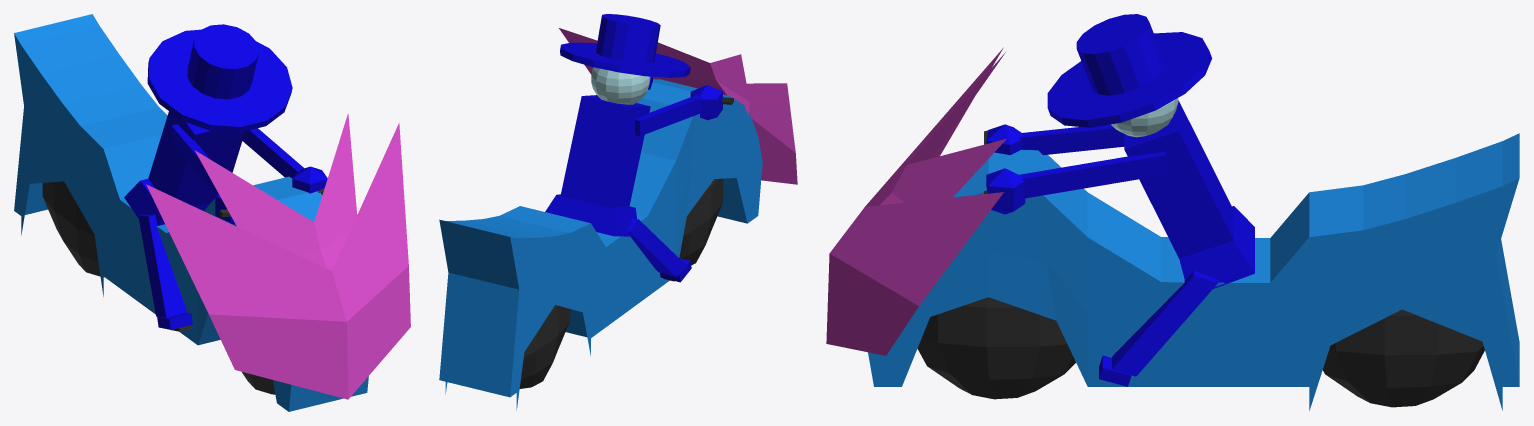
File: BikeMC.fbx
The picture shows the model from 3 angles, left to right: view 1: azimuth 30°, elevation 25°; view 2: azimuth 150°, elevation 25°; view 3: azimuth 270°, elevation 25°; orthographic projection. The views are drawn at different scales.
Parts seen in each view (by area): view 1: Plane.001, Cube, Cylinder.001, Plane, Cube.004, Cube.005, Cube.002, Sphere.001, Cube.003, Sphere; view 2: Cube, Cube.004, Cylinder.001, Plane.001, Plane, Sphere.001, Cube.005, Cube.003, Sphere, Cube.002, Sphere.002; view 3: Cube, Plane.001, Cylinder.001, Sphere, Sphere.001, Cube.004, Cube.005, Plane, Cube.002, Cube.003, Sphere.002.
Part boxes in pixels (x1,y1,x2,y2): Plane.001: [146, 123, 410, 399]; Cube: [14, 14, 368, 411]; Cylinder.001: [147, 24, 292, 132]; Plane: [194, 113, 357, 270]; Cube.004: [148, 111, 244, 206]; Cube.005: [171, 124, 327, 224]; Cube.002: [138, 214, 192, 329]; Sphere.001: [42, 181, 104, 277]; Cube.003: [124, 179, 210, 225]; Sphere: [242, 372, 275, 394]; Cube: [439, 79, 762, 410]; Cube.004: [560, 95, 650, 207]; Cylinder.001: [560, 14, 690, 77]; Plane.001: [559, 28, 797, 184]; Plane: [653, 42, 749, 115]; Sphere.001: [519, 305, 570, 388]; Cube.005: [635, 76, 722, 136]; Cube.003: [545, 194, 636, 236]; Sphere: [679, 178, 723, 265]; Cube.002: [627, 218, 691, 282]; Sphere.002: [591, 67, 650, 104]; Cube: [868, 133, 1519, 410]; Plane.001: [826, 47, 1003, 355]; Cylinder.001: [1047, 14, 1212, 127]; Sphere: [917, 297, 1075, 399]; Sphere.001: [1323, 309, 1484, 407]; Cube.004: [1124, 100, 1233, 259]; Cube.005: [986, 124, 1165, 214]; Plane: [880, 52, 1006, 205]; Cube.002: [1099, 270, 1218, 386]; Cube.003: [1180, 206, 1254, 288]; Sphere.002: [1111, 98, 1178, 137].
Bounding box in the file's own units: 353 × 432 × 712.
